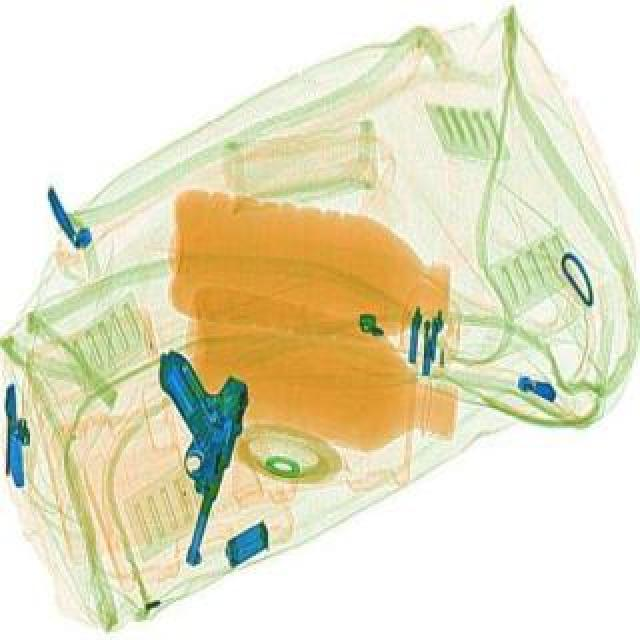gun: (100, 348, 256, 564)
